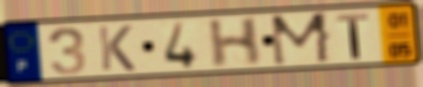3: (46, 26, 86, 76)
4: (161, 19, 202, 71)
H: (206, 15, 263, 70)
K: (96, 24, 138, 73)
M: (268, 10, 334, 69)
T: (334, 12, 372, 61)
